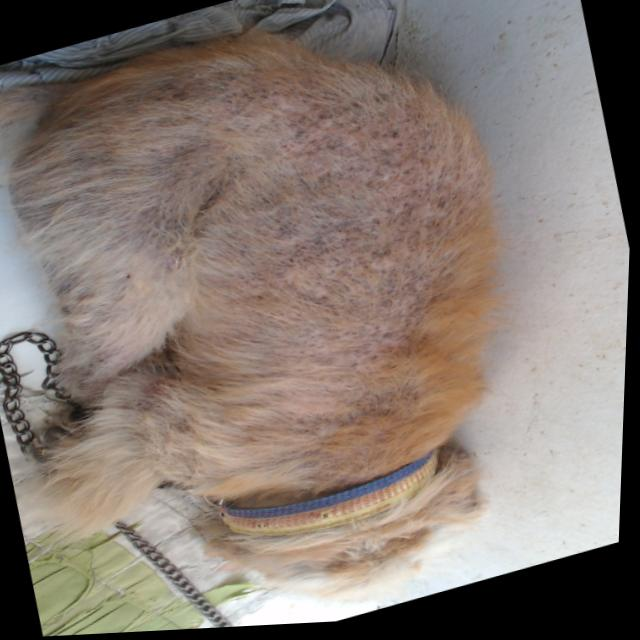demodicosis: (209, 81, 480, 367)
